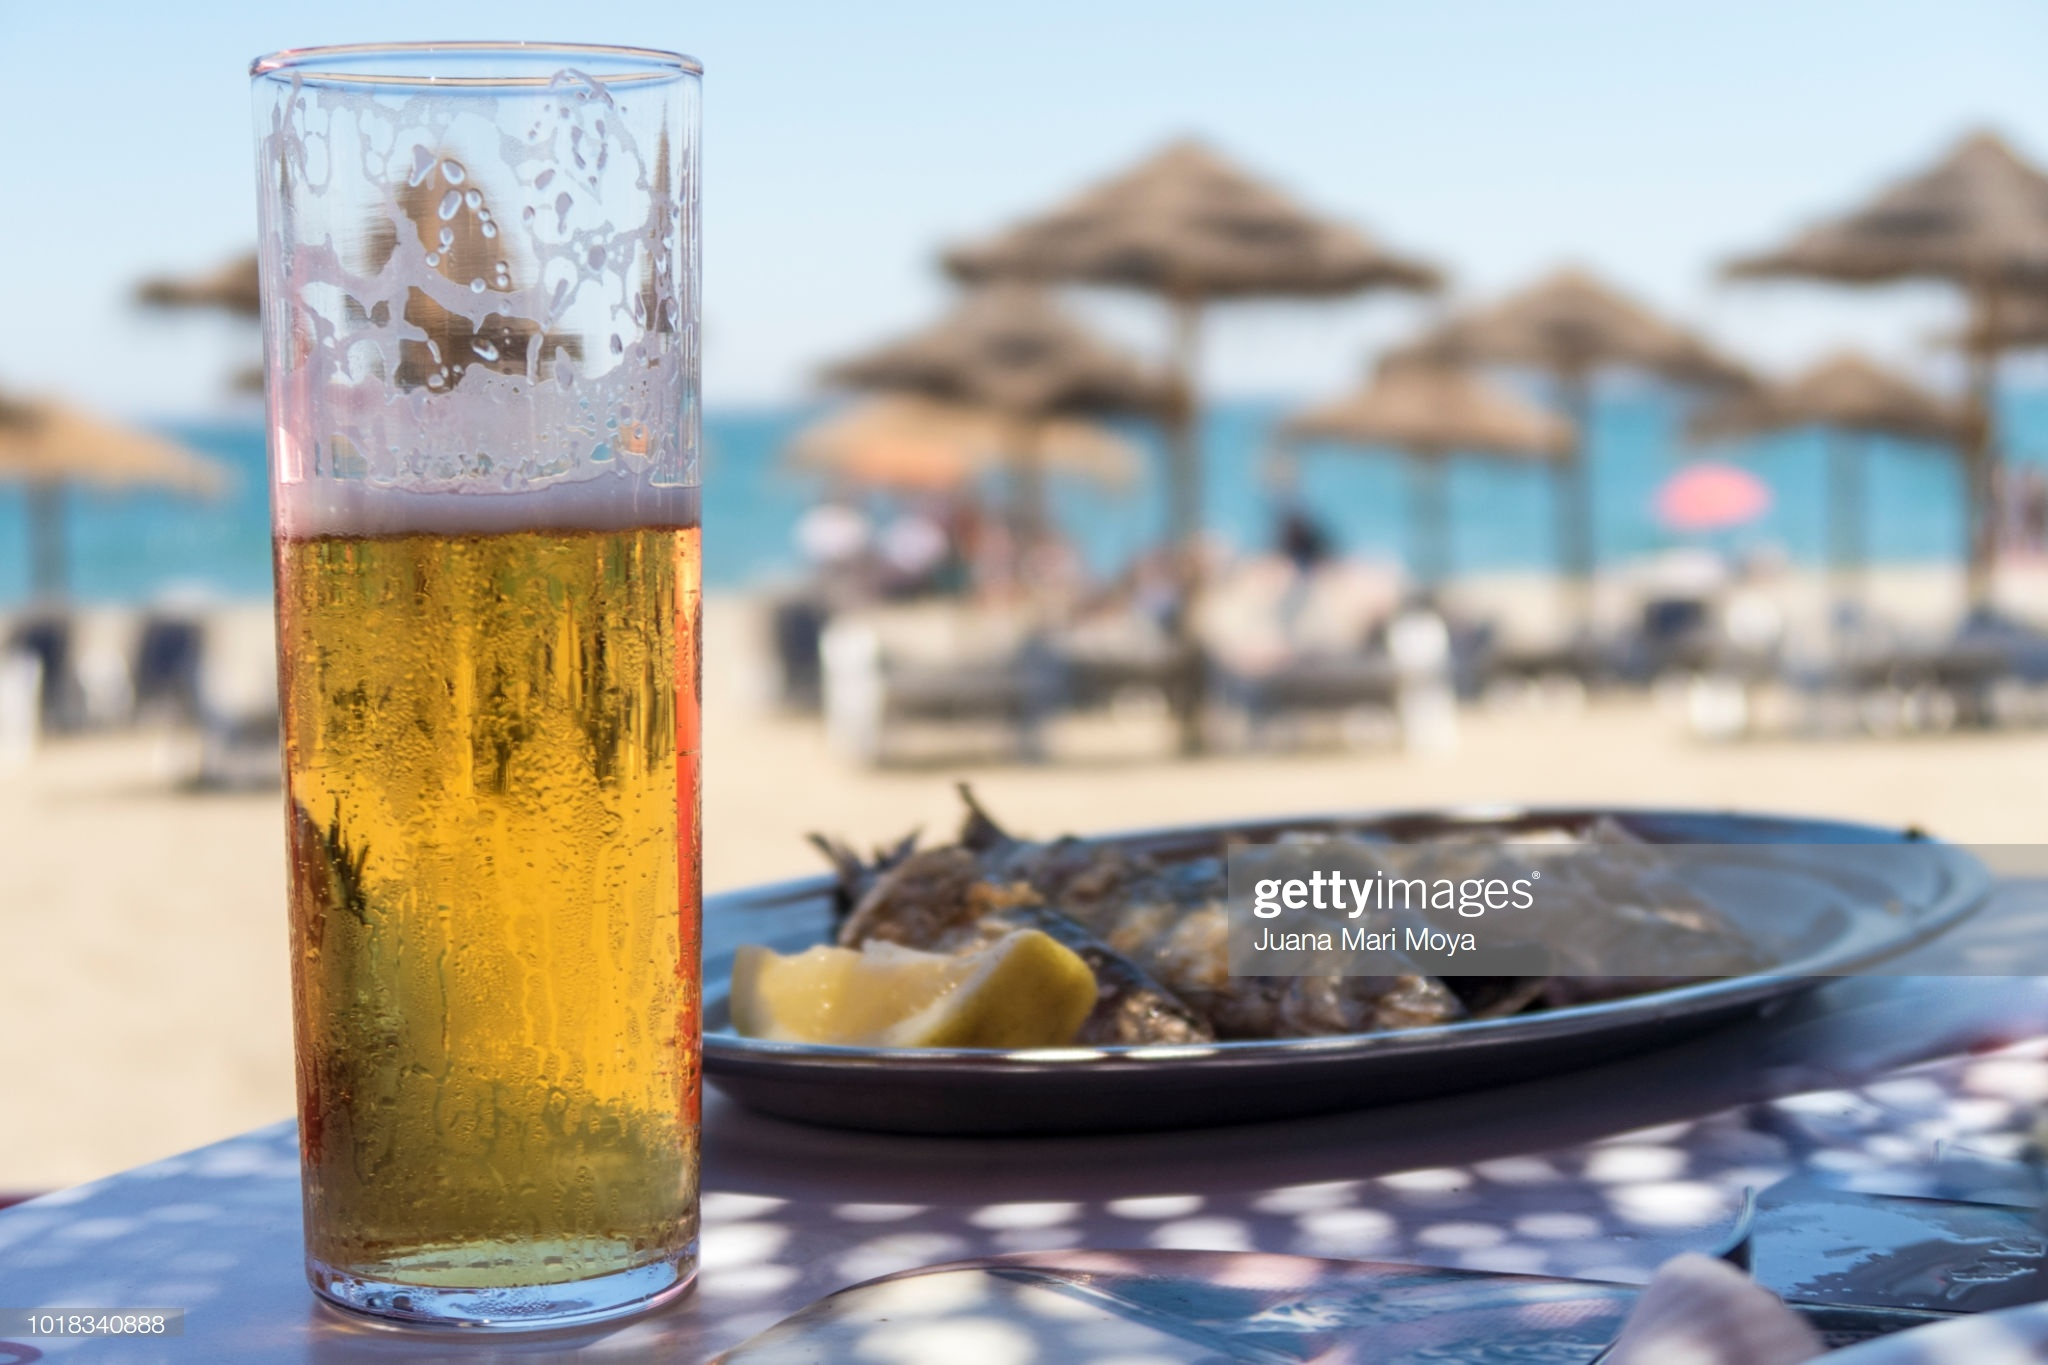glassBeer: (285, 29, 716, 1324)
